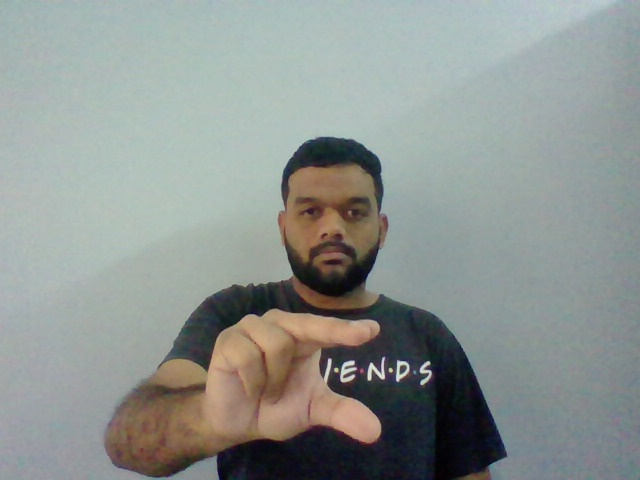No: (209, 308, 380, 447)
